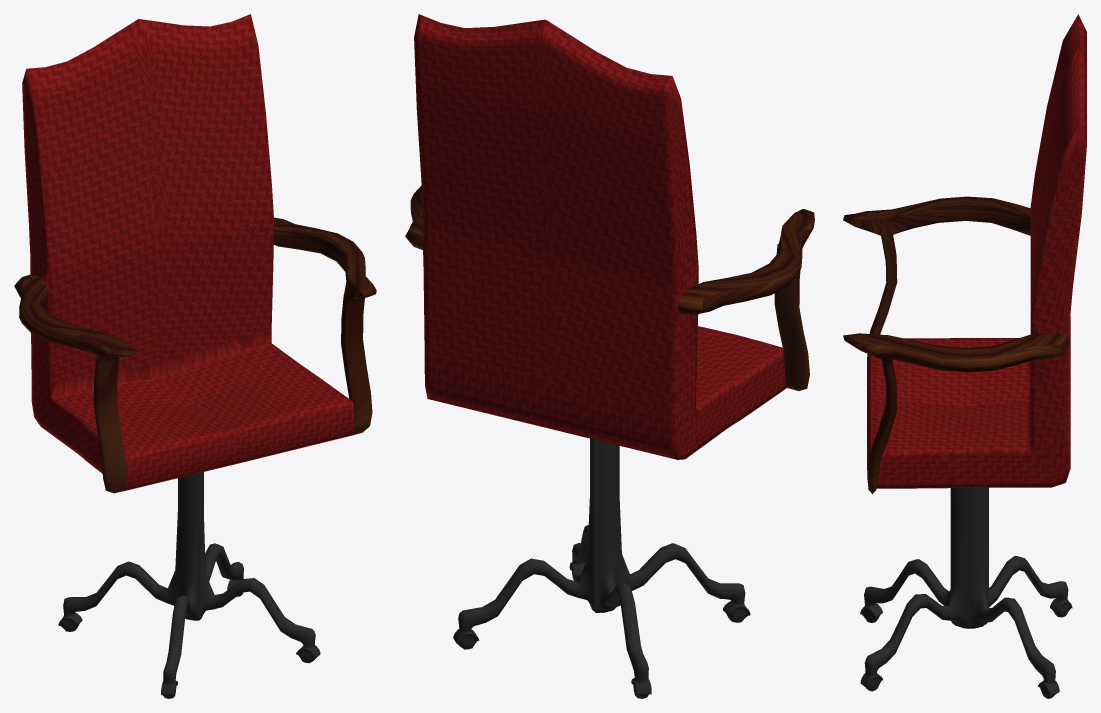
The model's file is chair.fbx.
3 renders of one model, left to right at view 1: azimuth 30°, elevation 25°; view 2: azimuth 150°, elevation 25°; view 3: azimuth 270°, elevation 25°, orthographic. The views are drawn at different scales.
Parts seen in each view (by area): view 1: pCube15; view 2: pCube15; view 3: pCube15.
Part boxes in pixels (x1,y1,x2,y2): pCube15: (14, 14, 376, 698); pCube15: (405, 14, 814, 698); pCube15: (843, 14, 1086, 698).
Size of the model in its own units: 1.66 by 2.85 by 1.03.
1 material, 1 textured.
